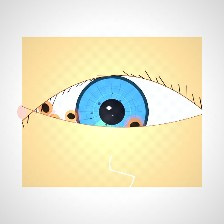foreign_body_visible: (110, 106, 159, 145)
